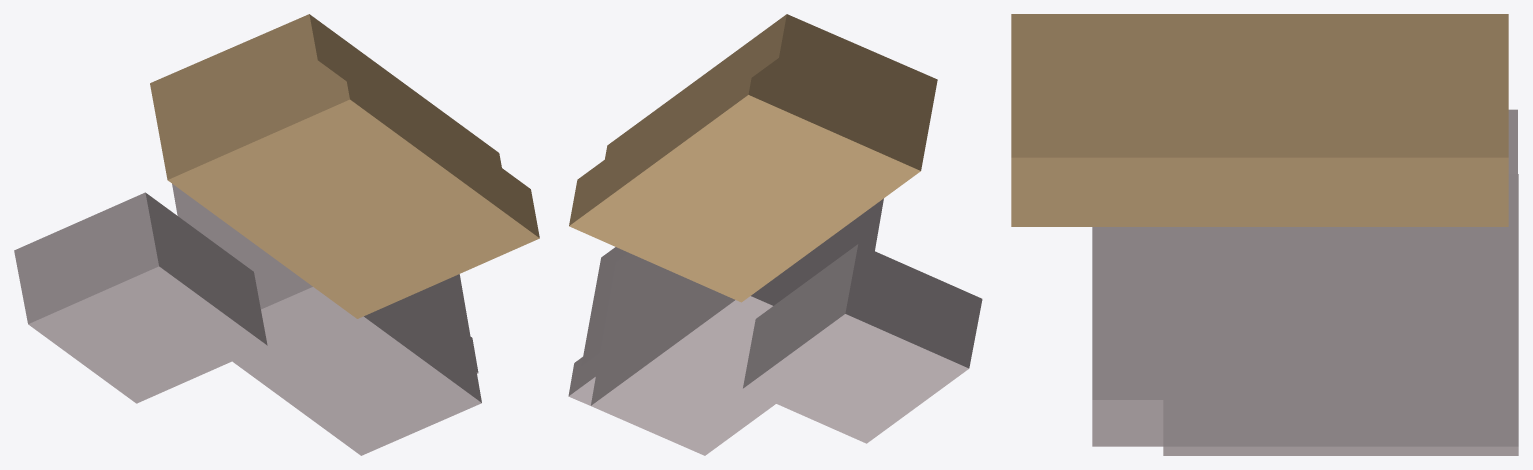
3 views of the same model, side by side, from view 1: azimuth 30°, elevation 25°; view 2: azimuth 150°, elevation 25°; view 3: azimuth 270°, elevation 25° (orthographic). The views are drawn at different scales.
Parts seen in each view (by area): view 1: 0_2_3_3_3_0_2_0_3_2; view 2: 0_2_3_3_3_0_2_0_3_2; view 3: 0_2_3_3_3_0_2_0_3_2.
Part boxes in pixels (x1,y1,x2,y2): 0_2_3_3_3_0_2_0_3_2: (14,14,539,455); 0_2_3_3_3_0_2_0_3_2: (568,14,982,455); 0_2_3_3_3_0_2_0_3_2: (1011,14,1518,455).
Bounding box in the file's own units: 21.22 × 18.27 × 21.42.
